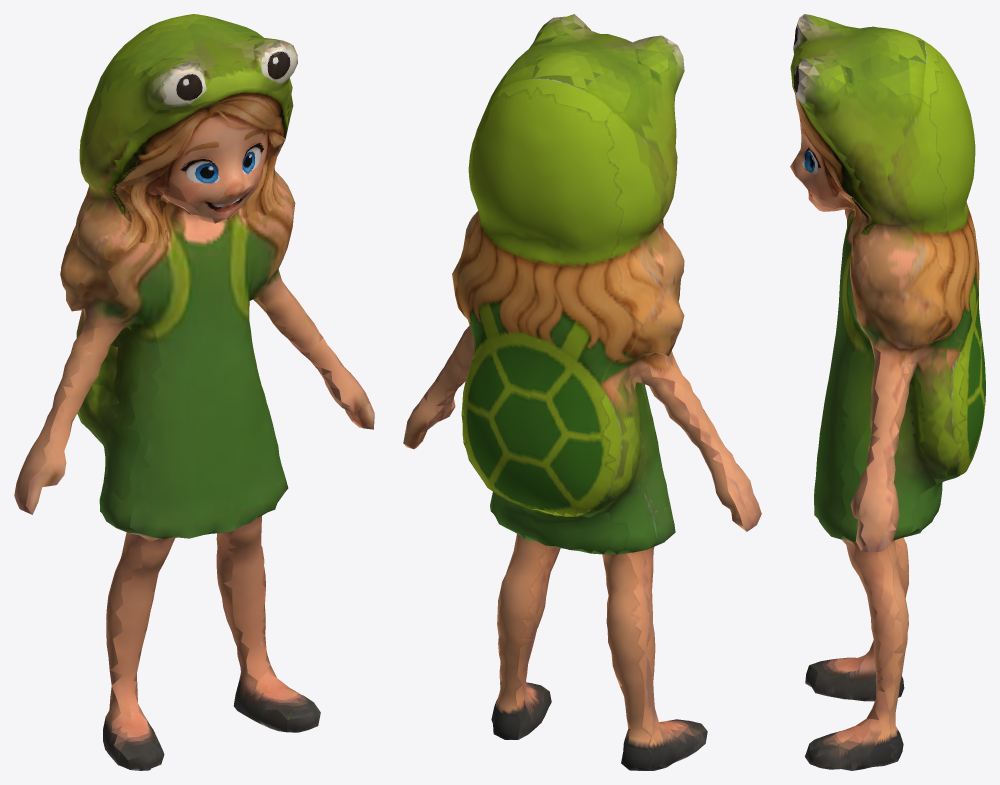
File: juliette-toon.glb
The picture shows the model from 3 angles, left to right: view 1: azimuth 30°, elevation 25°; view 2: azimuth 150°, elevation 25°; view 3: azimuth 270°, elevation 25°; orthographic projection. The views are drawn at different scales.
Parts seen in each view (by area): view 1: world; view 2: world; view 3: world.
Part boxes in pixels (x1=…): world: x1=14, y1=14, x2=374, y2=770; world: x1=403, y1=14, x2=761, y2=770; world: x1=790, y1=14, x2=985, y2=770.
Bounding box in the file's own units: 0.4838 × 0.9311 × 0.2385.
Materials: 1 (1 with a texture image).
